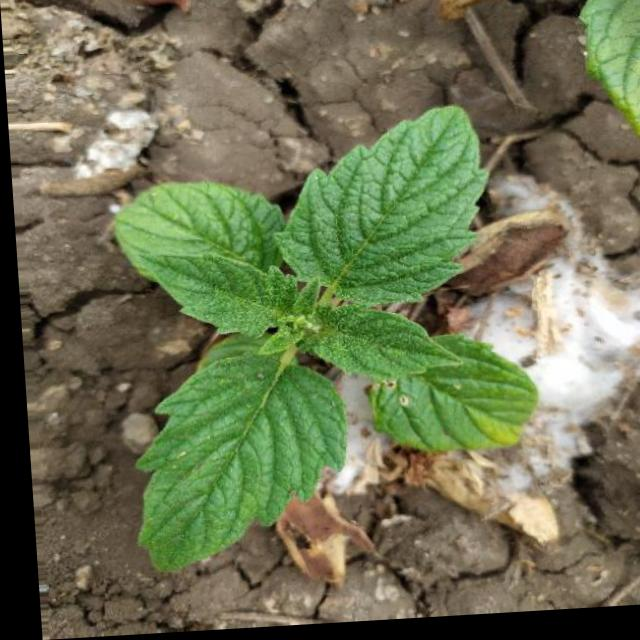crop: (72, 101, 538, 543)
